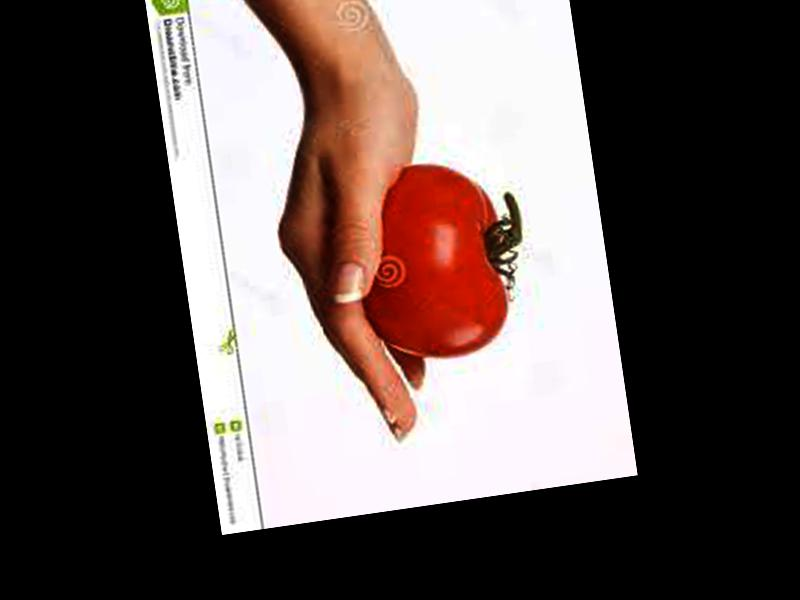Tomato: (345, 155, 515, 367)
